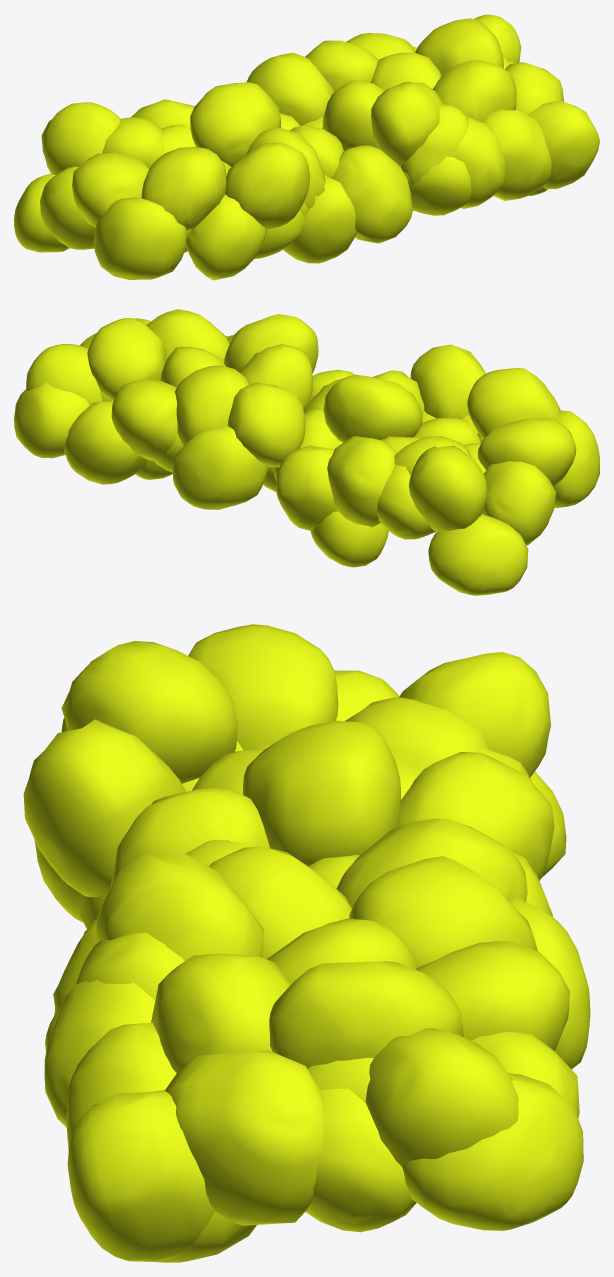
File: Patatas_Bajo.FBX
3 views of the same model, one above another, from view 1: azimuth 30°, elevation 25°; view 2: azimuth 150°, elevation 25°; view 3: azimuth 270°, elevation 25° (orthographic). The views are drawn at different scales.
Parts seen in each view (by area): view 1: Patata_low192, Patata_low223, Patata_low178, Patata_low168, Patata_low173, Patata_low187, Patata_low195, Patata_low213, Patata_low211, Patata_low175, Patata_low172, Patata_low166 (+20 smaller); view 2: Patata_low170, Patata_low221, Patata_low168, Patata_low175, Patata_low172, Patata_low180, Patata_low197, Patata_low206, Patata_low169, Patata_low177, Patata_low173, Patata_low198 (+19 smaller); view 3: Patata_low209, Patata_low211, Patata_low168, Patata_low178, Patata_low199, Patata_low204, Patata_low173, Patata_low197, Patata_low195, Patata_low177, Patata_low202, Patata_low201 (+23 smaller).
Part boxes in pixels (x1=…): Patata_low192: x1=94, y1=197, x2=186, y2=279; Patata_low223: x1=332, y1=145, x2=412, y2=243; Patata_low178: x1=225, y1=142, x2=309, y2=229; Patata_low168: x1=190, y1=82, x2=280, y2=166; Patata_low173: x1=141, y1=147, x2=226, y2=230; Patata_low187: x1=185, y1=194, x2=266, y2=280; Patata_low195: x1=371, y1=82, x2=442, y2=166; Patata_low213: x1=481, y1=109, x2=551, y2=200; Patata_low211: x1=528, y1=101, x2=599, y2=189; Patata_low175: x1=41, y1=102, x2=120, y2=174; Patata_low172: x1=247, y1=52, x2=334, y2=125; Patata_low166: x1=283, y1=176, x2=356, y2=263; Patata_low170: x1=428, y1=514, x2=528, y2=595; Patata_low221: x1=172, y1=426, x2=268, y2=509; Patata_low168: x1=323, y1=374, x2=422, y2=442; Patata_low175: x1=408, y1=445, x2=487, y2=531; Patata_low172: x1=227, y1=382, x2=305, y2=467; Patata_low180: x1=327, y1=436, x2=396, y2=527; Patata_low197: x1=87, y1=318, x2=166, y2=399; Patata_low206: x1=111, y1=379, x2=177, y2=461; Patata_low169: x1=482, y1=461, x2=556, y2=545; Patata_low177: x1=477, y1=418, x2=576, y2=486; Patata_low173: x1=467, y1=368, x2=560, y2=437; Patata_low198: x1=64, y1=401, x2=147, y2=484; Patata_low209: x1=165, y1=1050, x2=325, y2=1225; Patata_low211: x1=67, y1=1090, x2=214, y2=1262; Patata_low168: x1=243, y1=720, x2=400, y2=866; Patata_low178: x1=23, y1=719, x2=185, y2=896; Patata_low199: x1=402, y1=1073, x2=583, y2=1230; Patata_low204: x1=365, y1=1028, x2=518, y2=1166; Patata_low173: x1=61, y1=641, x2=237, y2=783; Patata_low197: x1=269, y1=961, x2=463, y2=1068; Patata_low195: x1=96, y1=854, x2=264, y2=960; Patata_low177: x1=188, y1=624, x2=338, y2=750; Patata_low202: x1=349, y1=856, x2=537, y2=967; Patata_low201: x1=151, y1=953, x2=290, y2=1072.
Bounding box in the file's own units: 160 × 49.08 × 78.74.
